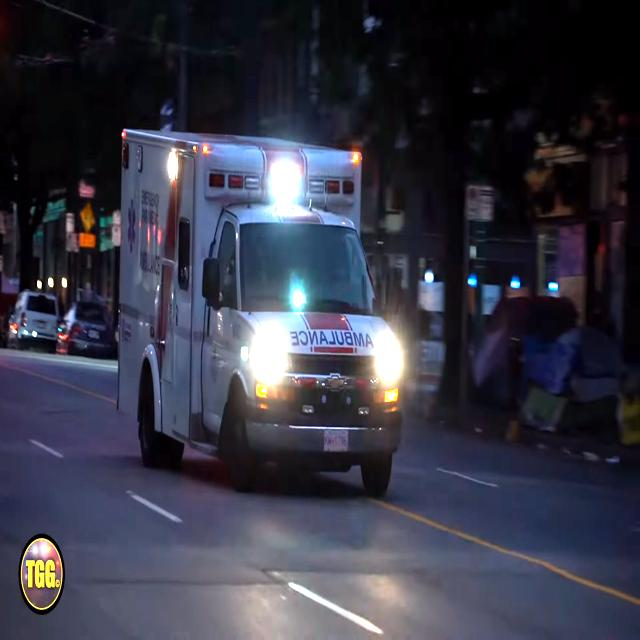emergency-vehicles: (102, 112, 412, 504)
